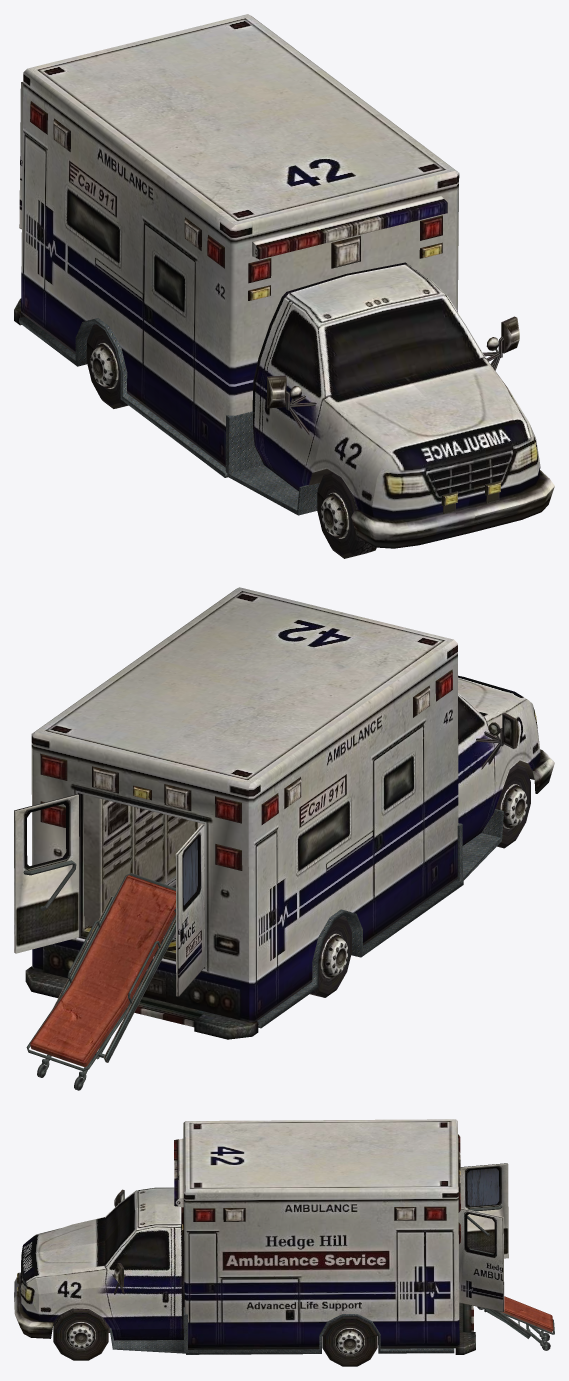
The model's file is cars.obj.
The picture shows the model from 3 angles, top to bottom: view 1: azimuth 30°, elevation 25°; view 2: azimuth 150°, elevation 25°; view 3: azimuth 270°, elevation 25°; orthographic projection. The views are drawn at different scales.
Parts seen in each view (by area): view 1: DrawCall25 Mesh, DrawCall22 Mesh, DrawCall23 Mesh; view 2: DrawCall25 Mesh, DrawCall22 Mesh, DrawCall23 Mesh, DrawCall24 Mesh, DrawCall21 Mesh; view 3: DrawCall25 Mesh, DrawCall22 Mesh, DrawCall23 Mesh, DrawCall21 Mesh, DrawCall24 Mesh.
Boxes of the visible parts, left/top/right/bottom form: DrawCall25 Mesh: left=14, top=14, right=459, bottom=467; DrawCall22 Mesh: left=30, top=101, right=554, bottom=558; DrawCall23 Mesh: left=19, top=316, right=319, bottom=515; DrawCall25 Mesh: left=14, top=587, right=458, bottom=1039; DrawCall22 Mesh: left=30, top=669, right=554, bottom=1066; DrawCall23 Mesh: left=257, top=809, right=503, bottom=1028; DrawCall24 Mesh: left=23, top=860, right=175, bottom=1073; DrawCall21 Mesh: left=183, top=838, right=197, bottom=905; DrawCall25 Mesh: left=183, top=1119, right=508, bottom=1354; DrawCall22 Mesh: left=14, top=1134, right=553, bottom=1366; DrawCall23 Mesh: left=109, top=1307, right=454, bottom=1354; DrawCall21 Mesh: left=467, top=1168, right=499, bottom=1206; DrawCall24 Mesh: left=467, top=1205, right=554, bottom=1342.
Bounding box in the file's own units: 832 × 929 × 2417.
6 materials, 6 textured.
